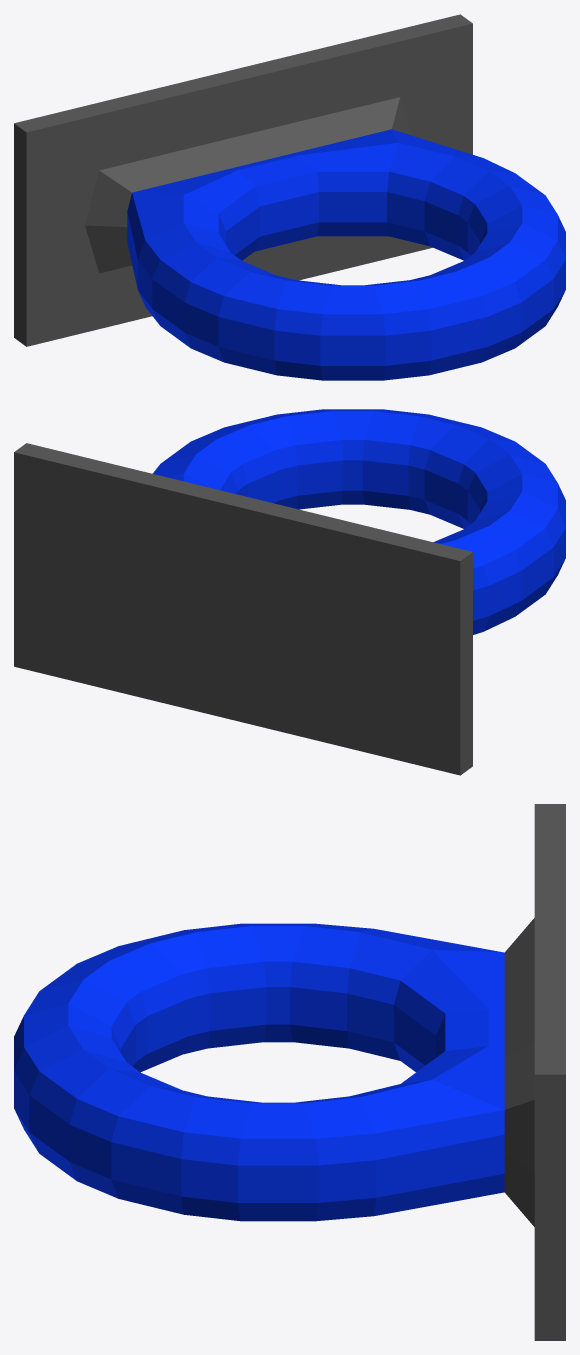
Rendered from Hold_Ring.fbx.
3 views of the same model, one above another, from view 1: azimuth 30°, elevation 25°; view 2: azimuth 150°, elevation 25°; view 3: azimuth 270°, elevation 25° (orthographic). The views are drawn at different scales.
Parts seen in each view (by area): view 1: Hold_Ring; view 2: Hold_Ring; view 3: Hold_Ring.
Boxes of the visible parts, left/top/right/bottom form: Hold_Ring: left=14, top=14, right=565, bottom=380; Hold_Ring: left=14, top=409, right=565, bottom=775; Hold_Ring: left=14, top=804, right=565, bottom=1340.
Bounding box in the file's own units: 1616 × 741 × 1393.
